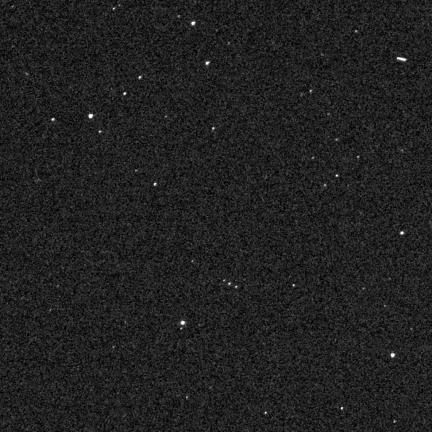blob: (391, 353, 396, 358), (191, 22, 196, 26), (89, 114, 93, 118), (99, 130, 103, 134), (206, 61, 210, 65), (181, 321, 185, 325), (357, 156, 361, 160), (336, 174, 340, 178), (310, 90, 313, 94), (138, 76, 142, 79), (400, 232, 404, 235), (52, 118, 55, 121), (123, 92, 126, 95), (154, 183, 157, 186)
